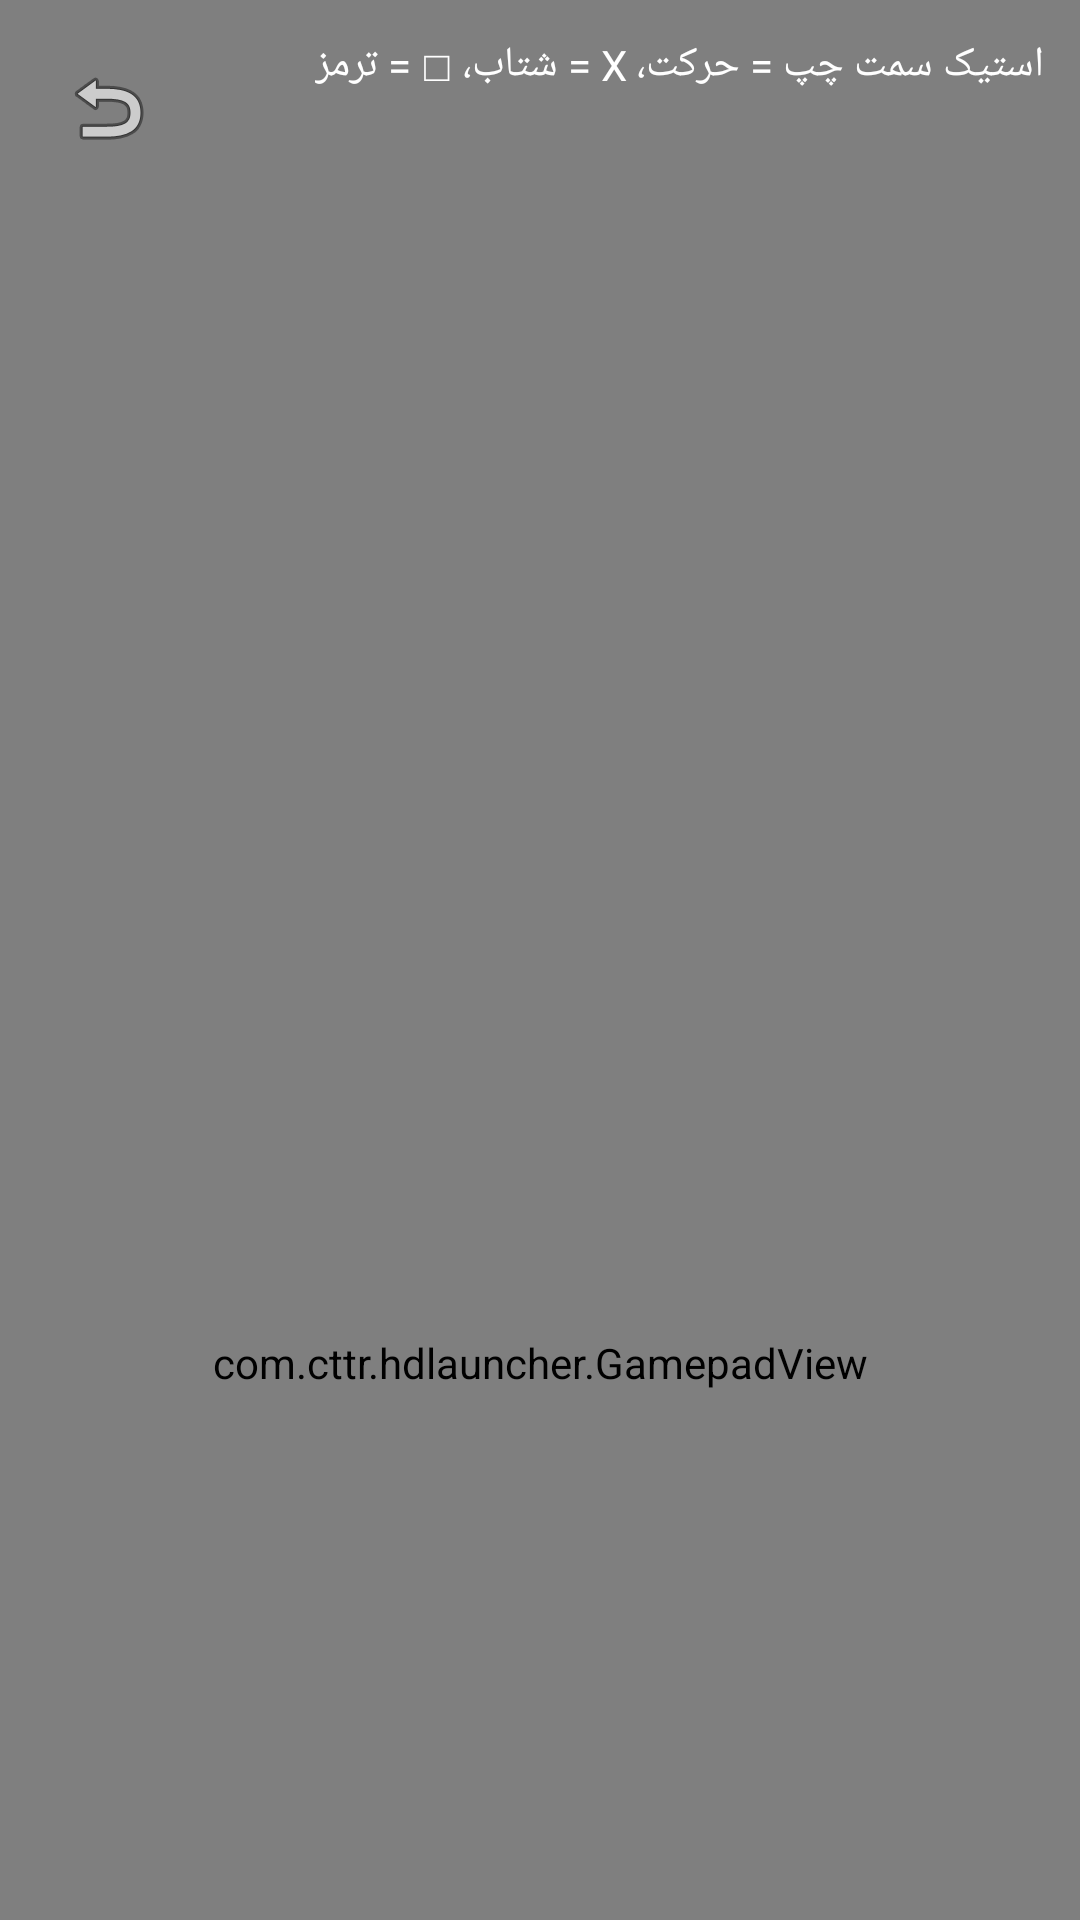

Screen size 1080x1920. Icon name, then its box in pixels as (x1, y1, x2, y2):
revert: (75, 78, 144, 140)
